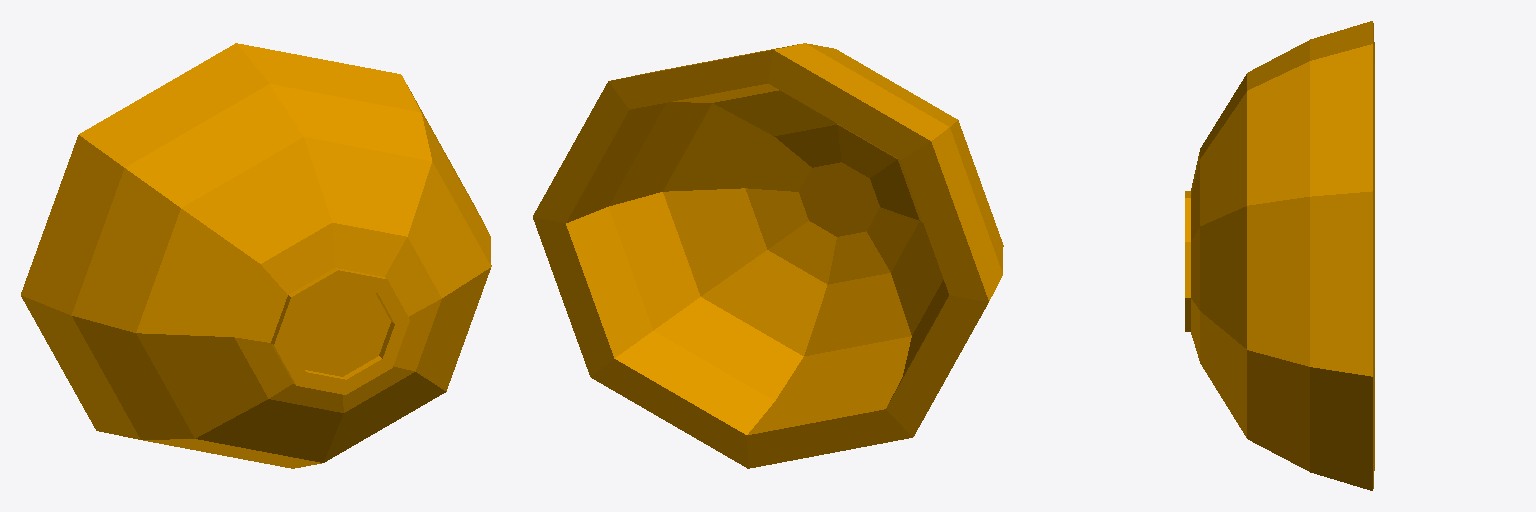
The robot description file, URDF, robot "indenter":
<robot name="indenter">
	<!-- <link name="world">
        </link>

        <joint name="world_to_indenter" type="prismatic">
                <parent link="world"/>
                <child link="indenter"/>
                <origin rpy="0.0 0.0 0.0" xyz="0.0 0.0 0.0"/>
                <axis xyz="0 1 0"/>
                <dynamics damping="0.0" friction="0.0"/>
                <limit lower="0.0" upper="0.4" velocity="1e9" effort="1e9"/>
        </joint> -->

	<link name="indenter">
		<visual>
			<origin rpy="0.0 0.0 0.0" xyz="0.0 0.0 0.0"/>
			<geometry>
				<mesh filename="../../meshes/target_objects/bowl_d_shapenet.obj"/>
			</geometry>
		</visual>
		<collision>
			<origin rpy="0.0 0.0 0.0" xyz="0.0 0.0 0.0"/>
			<geometry>
				<mesh filename="../../meshes/target_objects/bowl_d_shapenet.obj"/>
			</geometry>
		</collision>
		<inertial>
			<origin rpy="0.0 0.0 0.0" xyz="0.0 -8.64389e-3 0.0"/>
			<mass value="0.00224114"/>
			<inertia ixx="6.25553e-8" iyy="4.07645e-8" izz="6.25353e-8" ixy="0.0" ixz="4.69820e-15" iyz="0.0"/>
		</inertial>
	</link>
</robot>

--- Facts derived from the render (not from the file) ---
The picture shows the robot from 3 angles, left to right: view 1: azimuth 30°, elevation 25°; view 2: azimuth 150°, elevation 25°; view 3: azimuth 270°, elevation 25°; orthographic projection.
Robot: indenter — 1 links, 0 joints (none); root link indenter; default pose: every joint at zero.
Links seen in each view (by area): view 1: indenter; view 2: indenter; view 3: indenter.
Boxes of the visible links, x1,y1,x2,y2 form: indenter: [21, 43, 491, 468]; indenter: [533, 43, 1003, 468]; indenter: [1185, 21, 1374, 490].
Size in the robot's own frame: 0.2999 by 0.1119 by 0.2668 metres.
Meshes: 1 distinct files referenced, 1 mesh visuals loaded (1 OBJ).